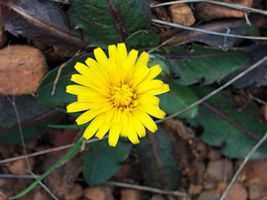dandelion: (66, 57, 173, 139)
